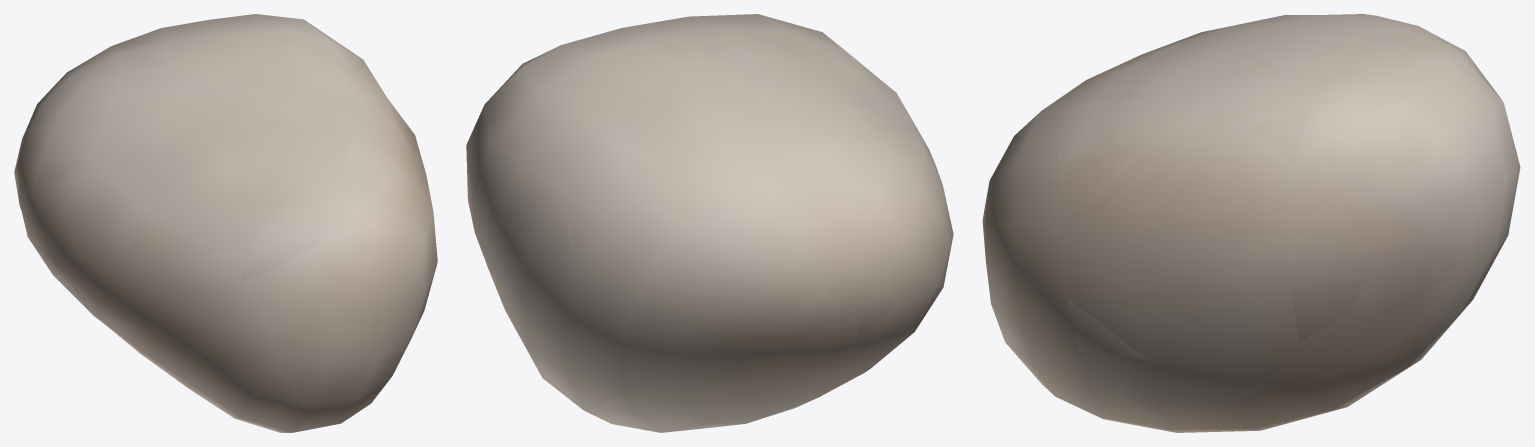
The model's file is Pisiform L.fbx.
The picture shows the model from 3 angles, left to right: view 1: azimuth 30°, elevation 25°; view 2: azimuth 150°, elevation 25°; view 3: azimuth 270°, elevation 25°; orthographic projection. The views are drawn at different scales.
Visible parts, largest first — view 1: Pisiform L, Pisiform L low; view 2: Pisiform L, Pisiform L low; view 3: Pisiform L, Pisiform L low.
Boxes of the visible parts, x1,y1,x2,y2 form: Pisiform L: [14, 14, 437, 432]; Pisiform L low: [14, 21, 437, 430]; Pisiform L: [466, 14, 953, 432]; Pisiform L low: [467, 15, 937, 432]; Pisiform L: [982, 14, 1520, 432]; Pisiform L low: [986, 15, 1518, 424].
Size of the model in its own units: 0.0332 by 0.0292 by 0.0381.
Materials: 1 (1 with a texture image).
